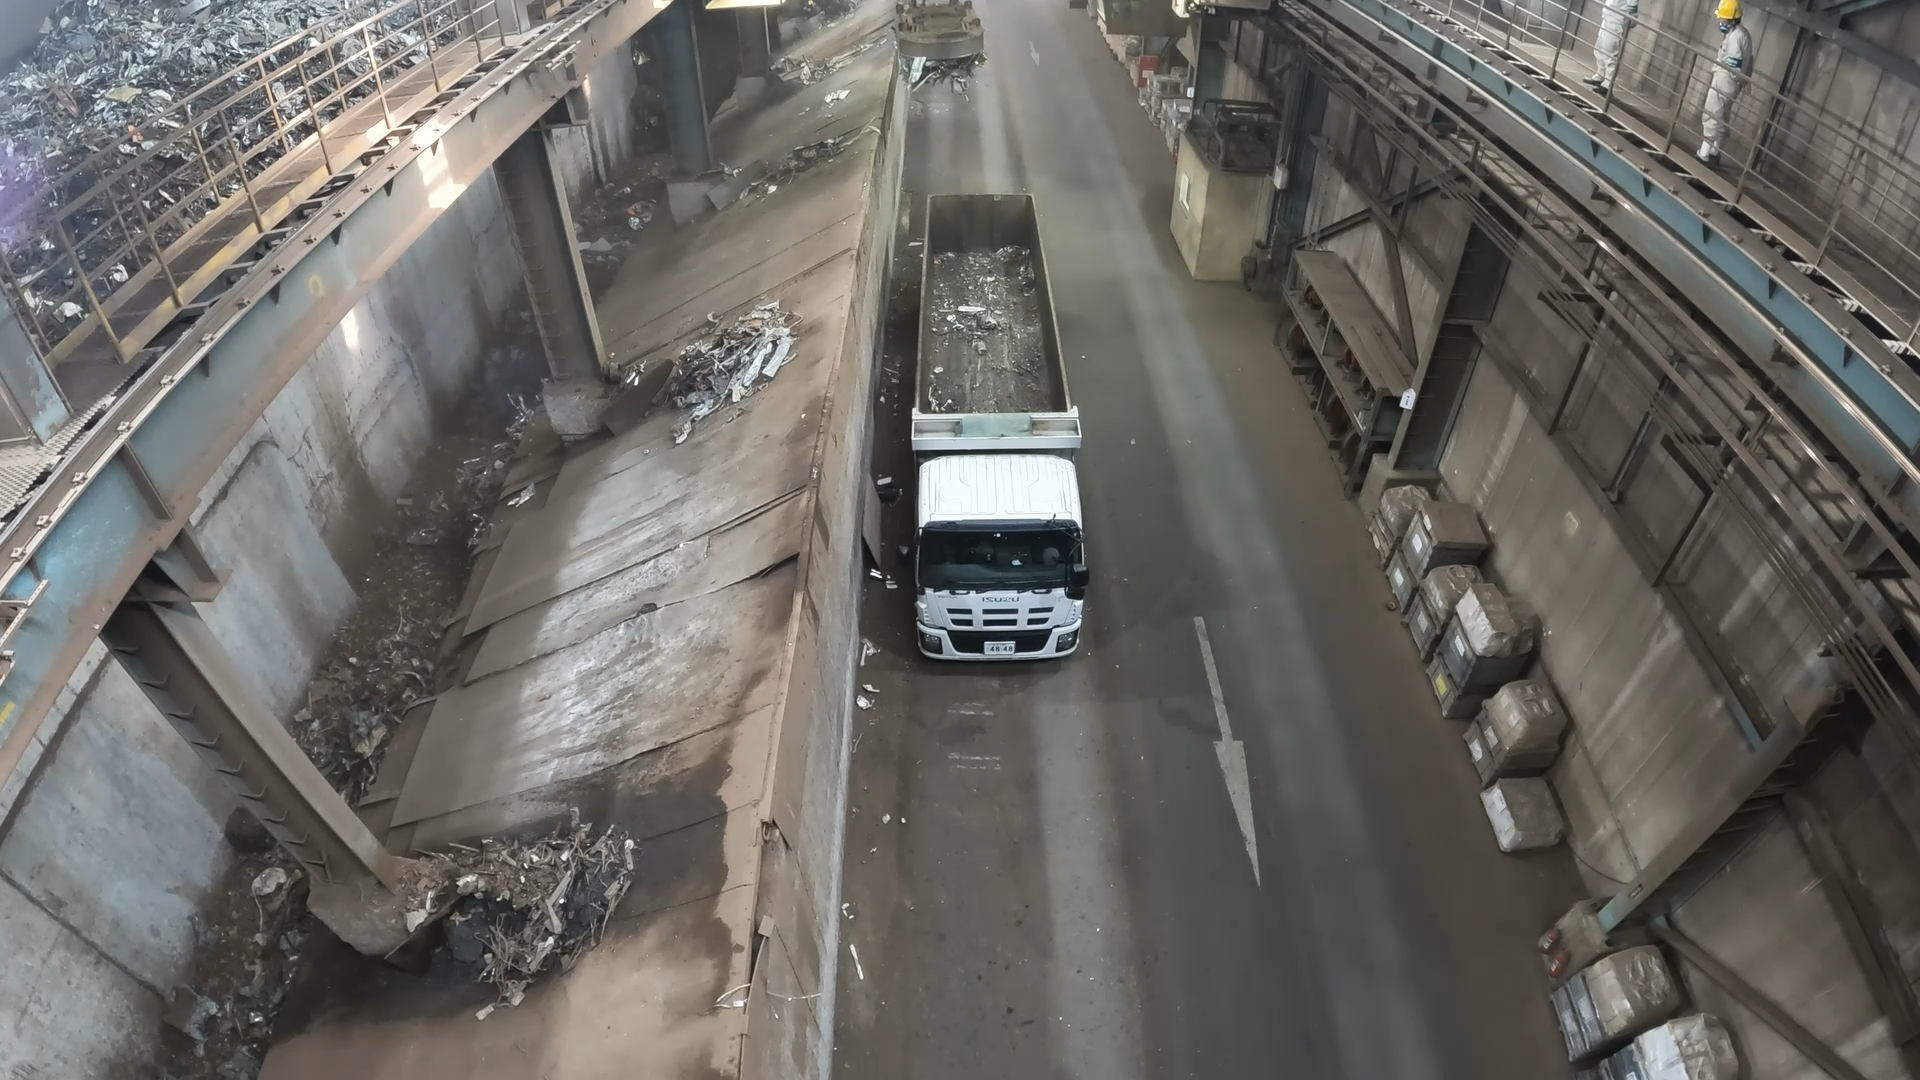truck: (916, 193, 1069, 415)
